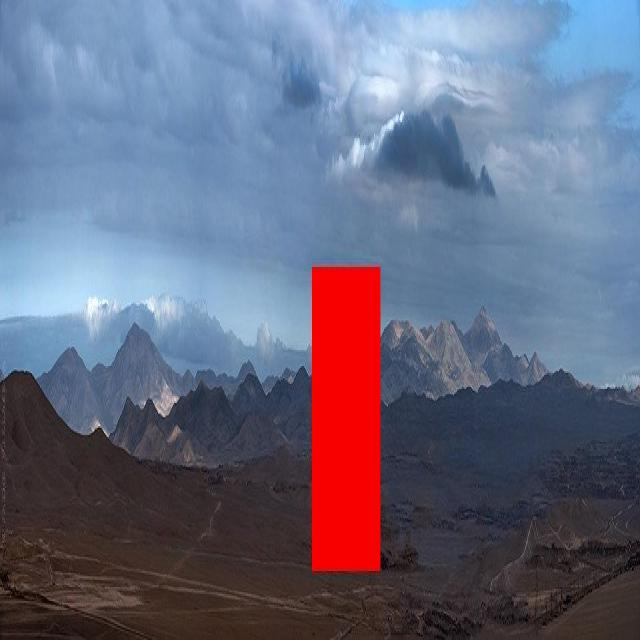RedSquare: (308, 251, 383, 583)
